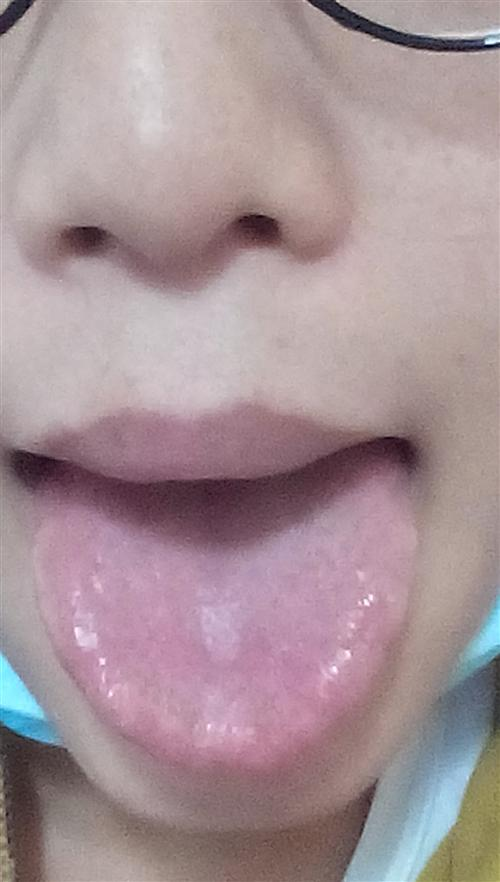baitaishe: (34, 449, 415, 770)
huataishe: (70, 585, 104, 665)
